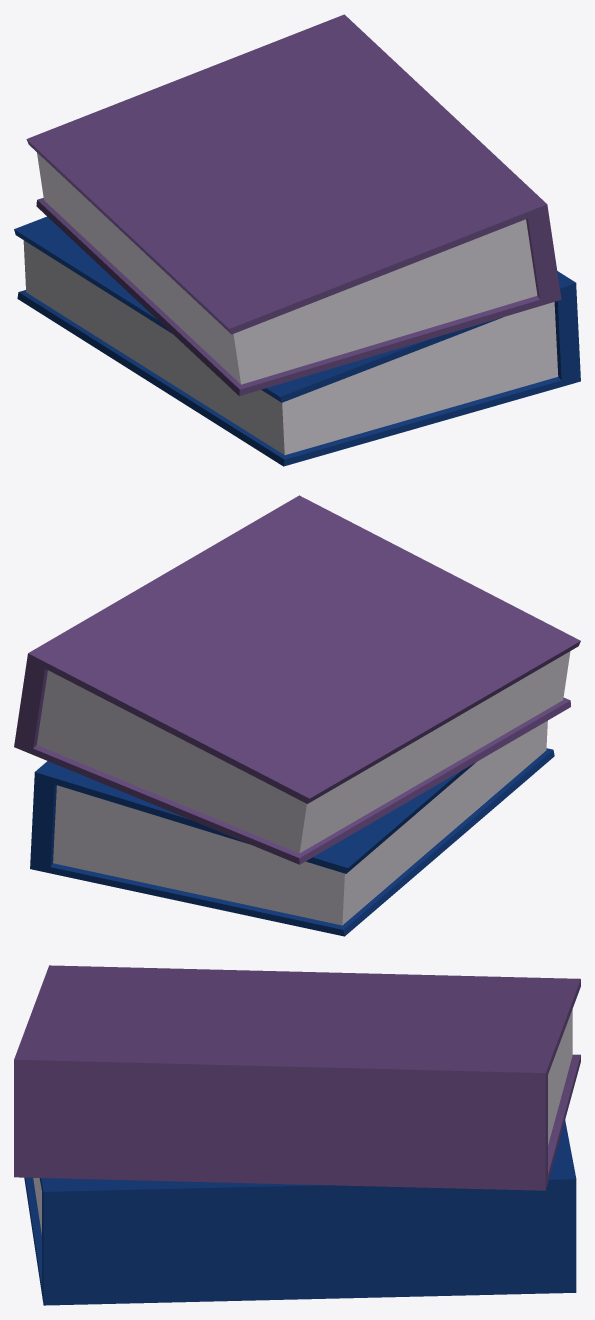
3 views of the same model, one above another, from view 1: azimuth 30°, elevation 25°; view 2: azimuth 150°, elevation 25°; view 3: azimuth 270°, elevation 25° (orthographic). The views are drawn at different scales.
Parts seen in each view (by area): view 1: File1; view 2: File1; view 3: File1.
Boxes of the visible parts, x1,y1,x2,y2 form: File1: (14,14,580,466); File1: (14,495,580,936); File1: (14,965,580,1305).
Bounding box in the file's own units: 52.18 × 29.25 × 65.34.
